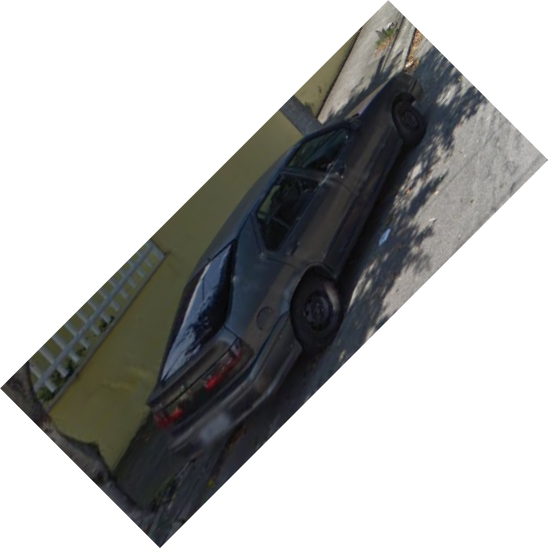car: (146, 72, 430, 457)
